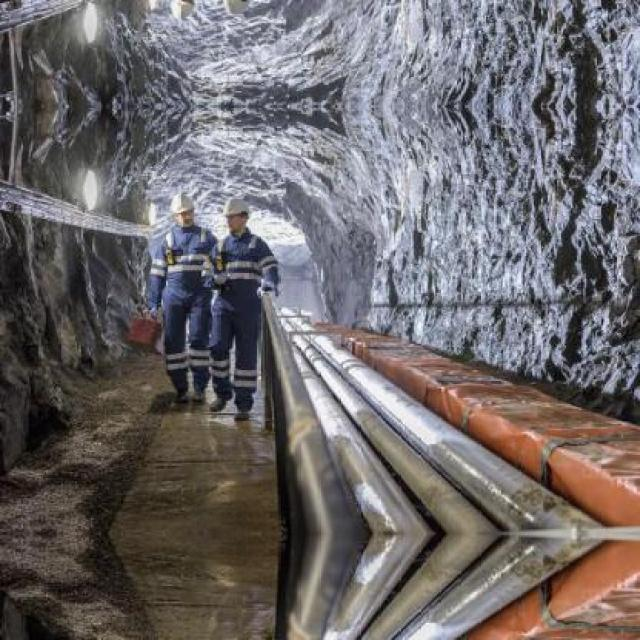helmet: (217, 193, 251, 234), (165, 190, 198, 228), (164, 0, 198, 23), (217, 0, 252, 20)
